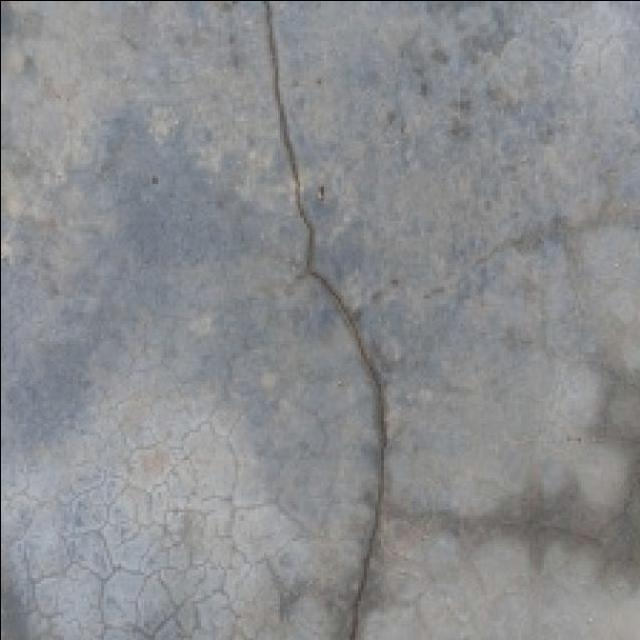SurfaceCrack: (238, 0, 414, 640)
